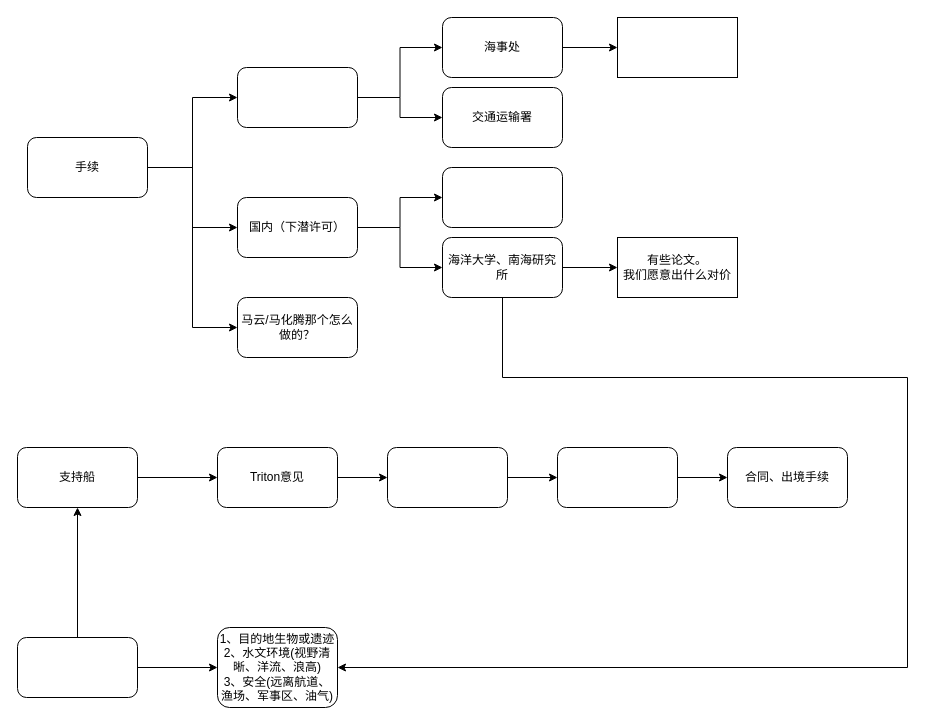
Some shapes in this 933 by 725 pixel diagram are drawn without their labels. Here are the shapes that lost their labels. From the top down, the centre of each, then its label:
At (677,47): "何总之前拜访如何".
At (297,97): "香港( 潜艇牌照)".
At (502,197): "小鹏汽车或关联企业自主申请".
At (447,477): "明细清单".
At (617,477): "询价谈价".
At (77,667): "下潜地点".
